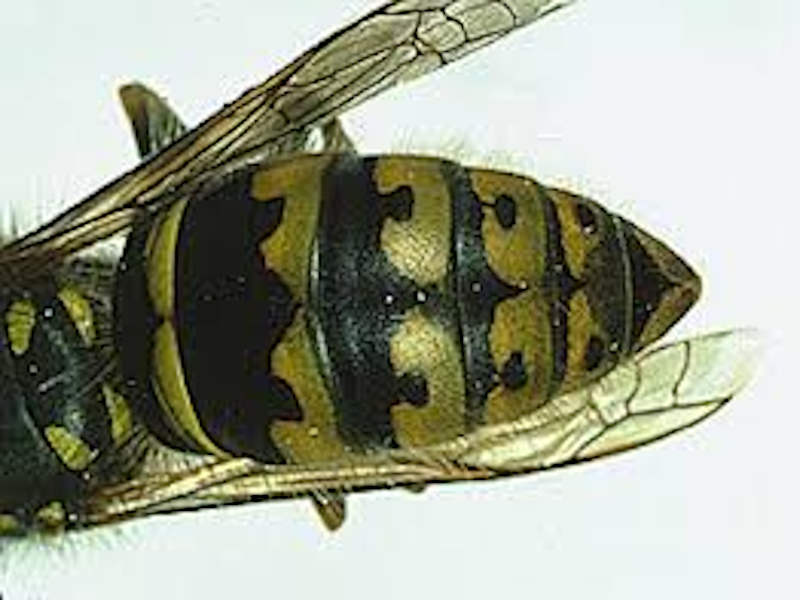chax: (1, 4, 764, 538)
